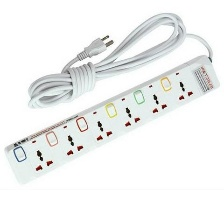three_eye_plug: (2, 51, 222, 187)
